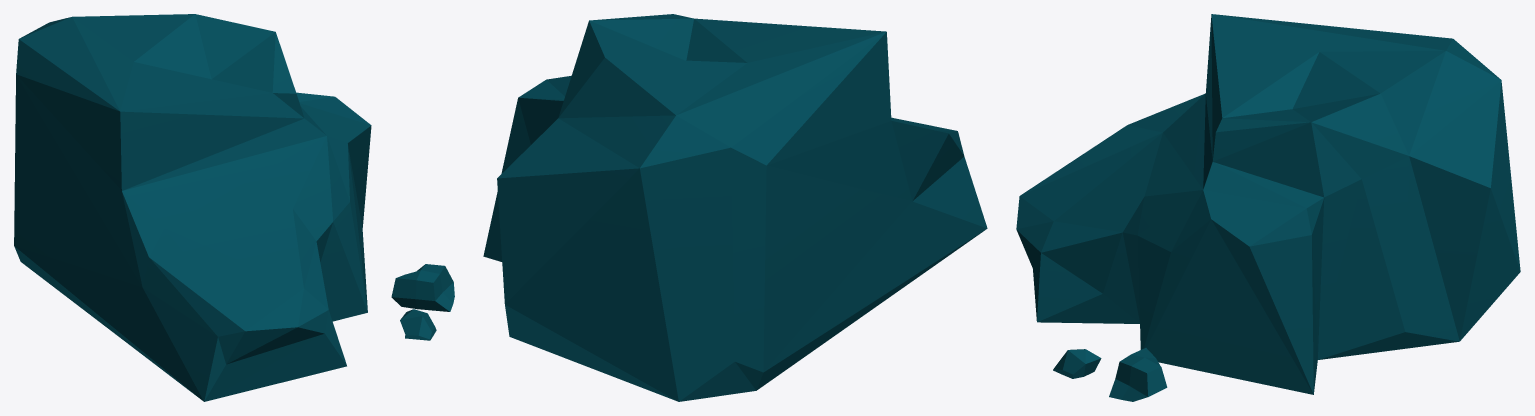
The model's file is Collectable_Rock_01.fbx.
3 views of the same model, side by side, from view 1: azimuth 30°, elevation 25°; view 2: azimuth 150°, elevation 25°; view 3: azimuth 270°, elevation 25° (orthographic). The views are drawn at different scales.
Visible parts, largest first — view 1: Collectable_Rock_01; view 2: Collectable_Rock_01; view 3: Collectable_Rock_01.
Part boxes in pixels (box(x1,y1,x2,y2)): Collectable_Rock_01: box(14, 14, 454, 401); Collectable_Rock_01: box(483, 14, 987, 401); Collectable_Rock_01: box(1016, 14, 1520, 401).
Size of the model in its own units: 62.63 by 44.24 by 83.84.
